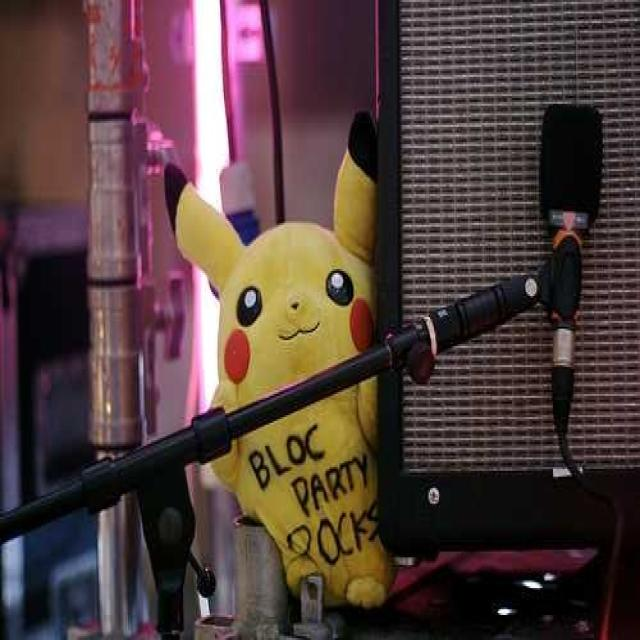microphone: (538, 103, 604, 422)
